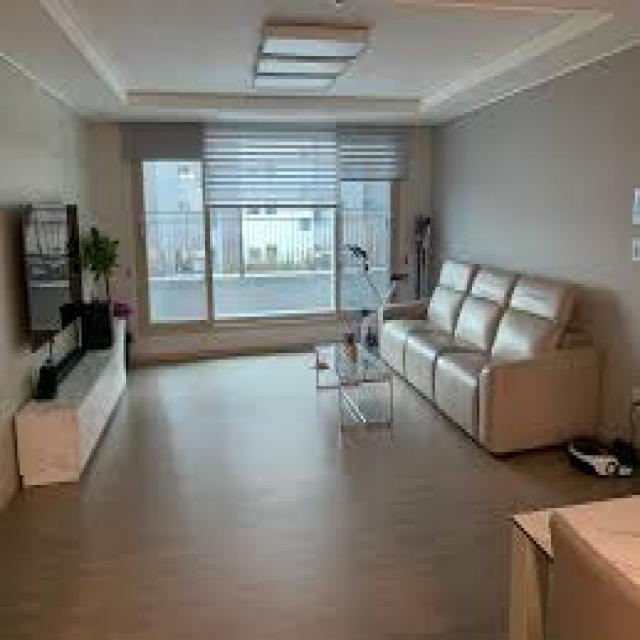Sofa: (382, 257, 608, 456)
Table: (311, 333, 398, 447)
tv: (16, 198, 88, 344)
window: (143, 159, 394, 305)
